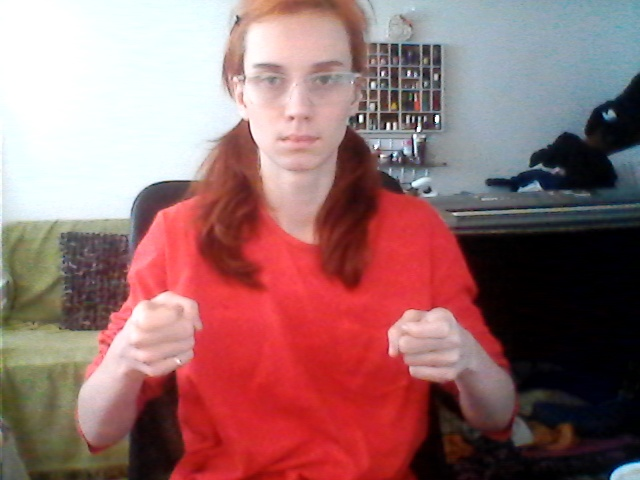davat: (121, 282, 468, 388)
